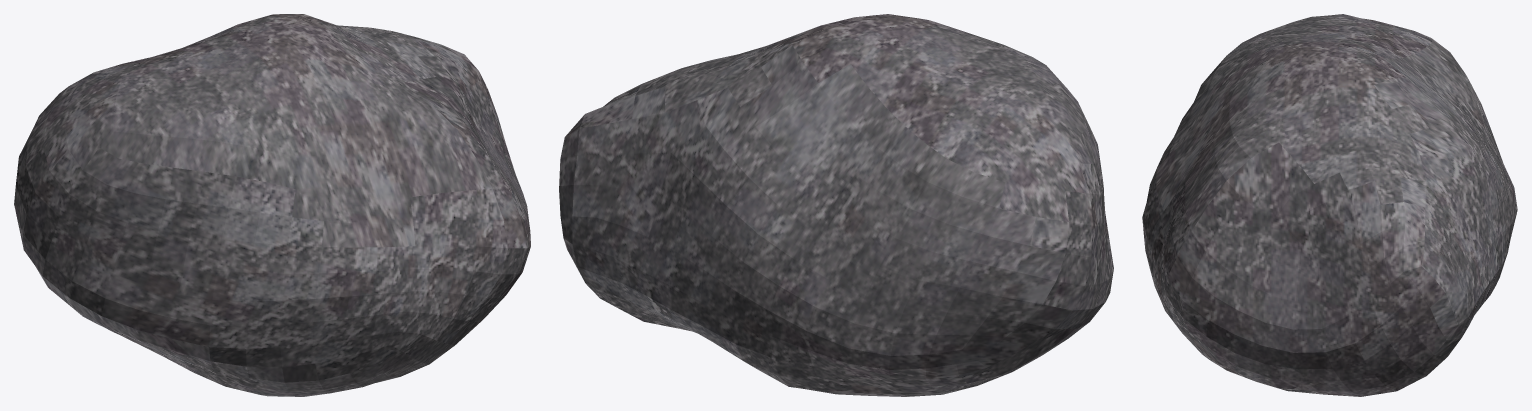
The model's file is stone01.fbx.
3 views of the same model, side by side, from view 1: azimuth 30°, elevation 25°; view 2: azimuth 150°, elevation 25°; view 3: azimuth 270°, elevation 25° (orthographic). The views are drawn at different scales.
Parts seen in each view (by area): view 1: stone02; view 2: stone02; view 3: stone02.
Boxes of the visible parts, x1=… form: stone02: x1=14, y1=14, x2=530, y2=396; stone02: x1=559, y1=14, x2=1113, y2=396; stone02: x1=1142, y1=14, x2=1517, y2=396.
Bounding box in the file's own units: 3.16 × 2.11 × 2.42.
